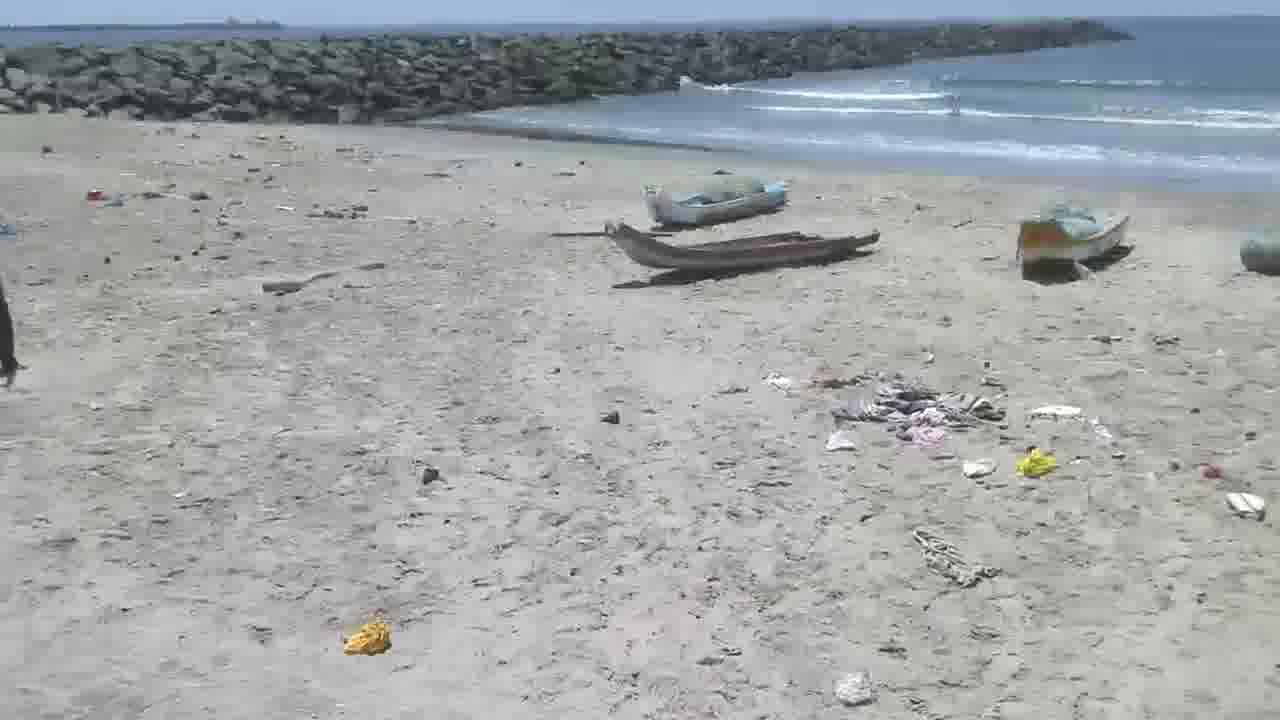large collection of objects: (604, 219, 879, 281), (1018, 197, 1137, 288), (644, 166, 788, 228), (1229, 216, 1279, 283)
obj: (749, 358, 1010, 466), (908, 518, 1006, 598), (256, 256, 390, 302), (1024, 394, 1100, 442), (334, 616, 397, 662), (1014, 442, 1068, 483), (1228, 484, 1270, 526), (834, 669, 876, 707)
sand/background: (1, 0, 1279, 202)
